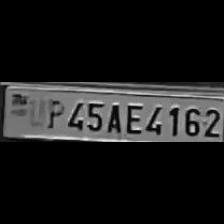1: (164, 104, 181, 136)
2: (200, 104, 222, 138)
4: (64, 98, 84, 130), (143, 103, 163, 135)
5: (84, 99, 104, 131)
6: (180, 104, 200, 136)
A: (103, 100, 123, 134)
E: (122, 100, 142, 134)
P: (42, 96, 62, 130)
